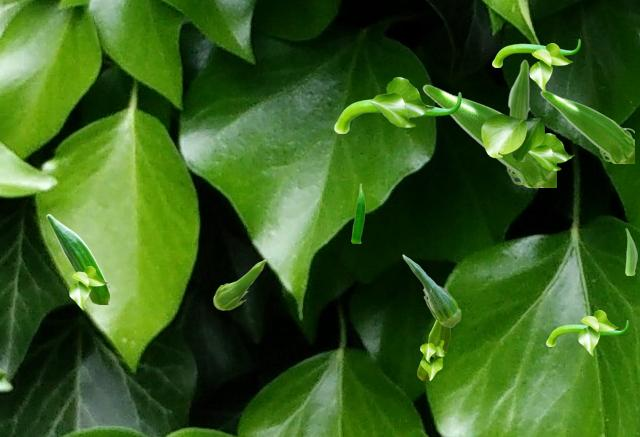okra: (422, 84, 555, 186), (540, 90, 633, 162), (46, 214, 108, 303), (334, 92, 460, 132), (402, 254, 460, 326), (213, 259, 265, 309), (492, 39, 579, 66), (507, 59, 529, 161), (546, 320, 627, 345), (417, 320, 449, 379), (351, 183, 364, 242), (625, 228, 636, 274)
